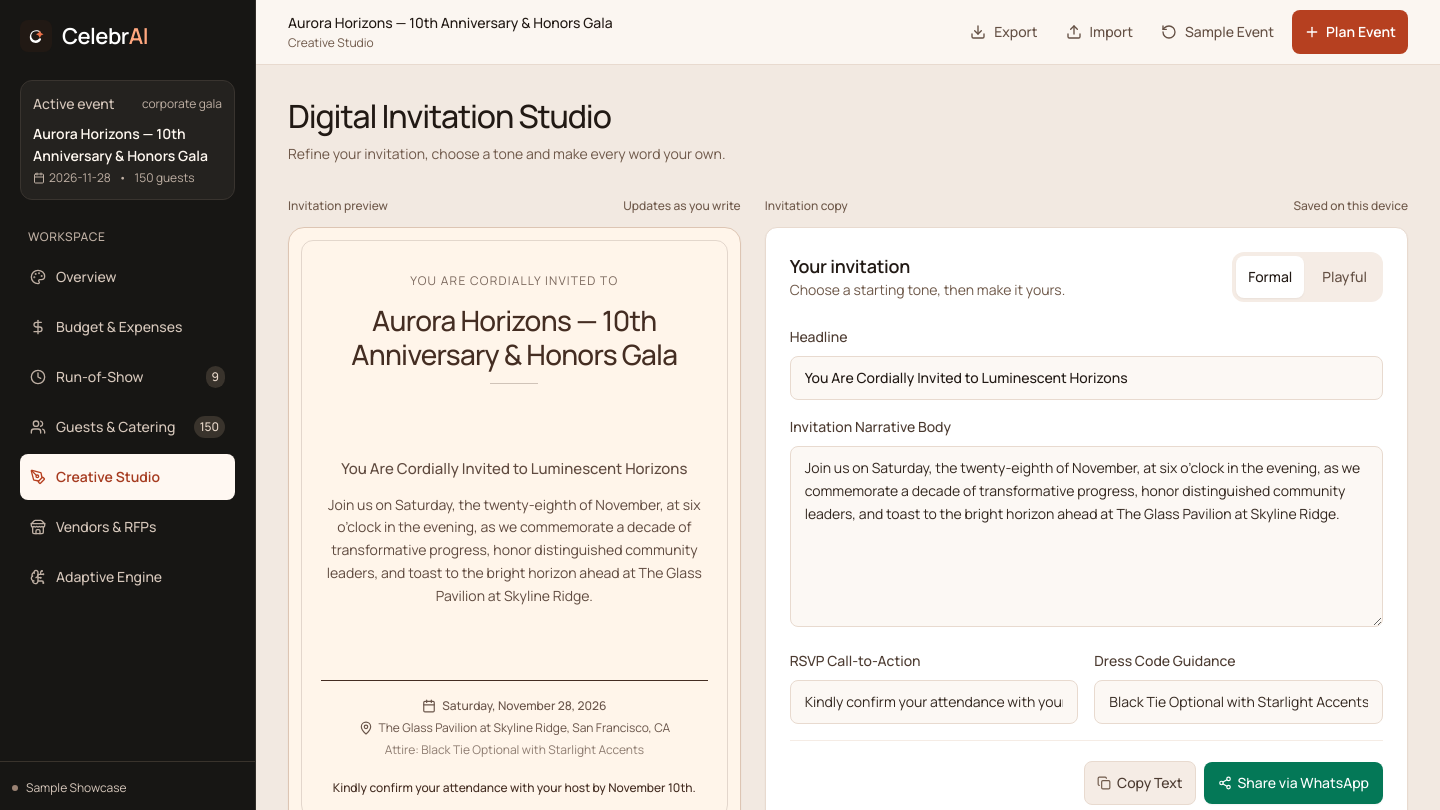
Test: Redesign interaction regressions › announces clipboard success only after the write resolves
Click the button "Copy Text". click: click(1140, 783)
box: top-left (1084, 761), bottom-right (1196, 805)
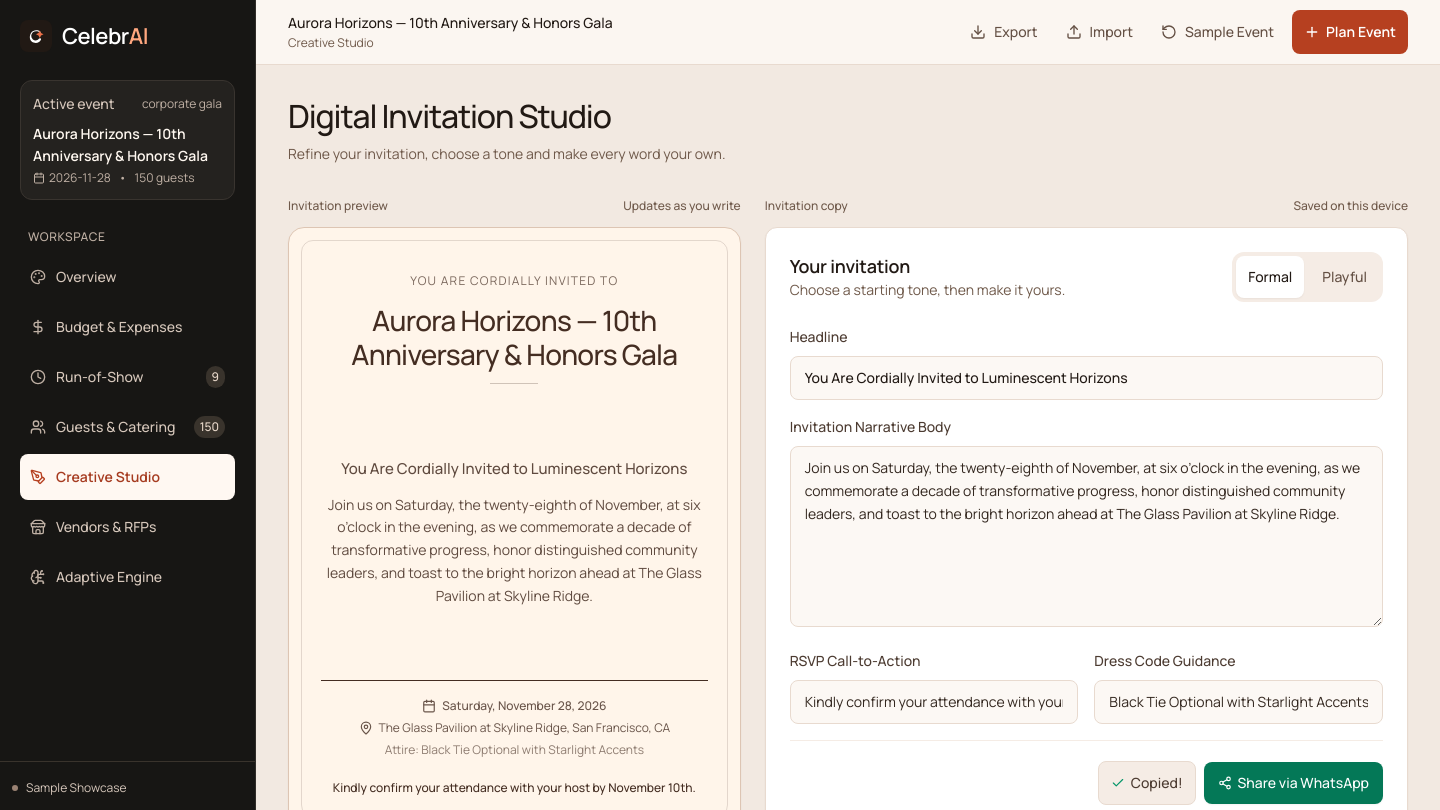
Result: the button "Copied!" is shown at top-left (1098, 761), bottom-right (1196, 805)
